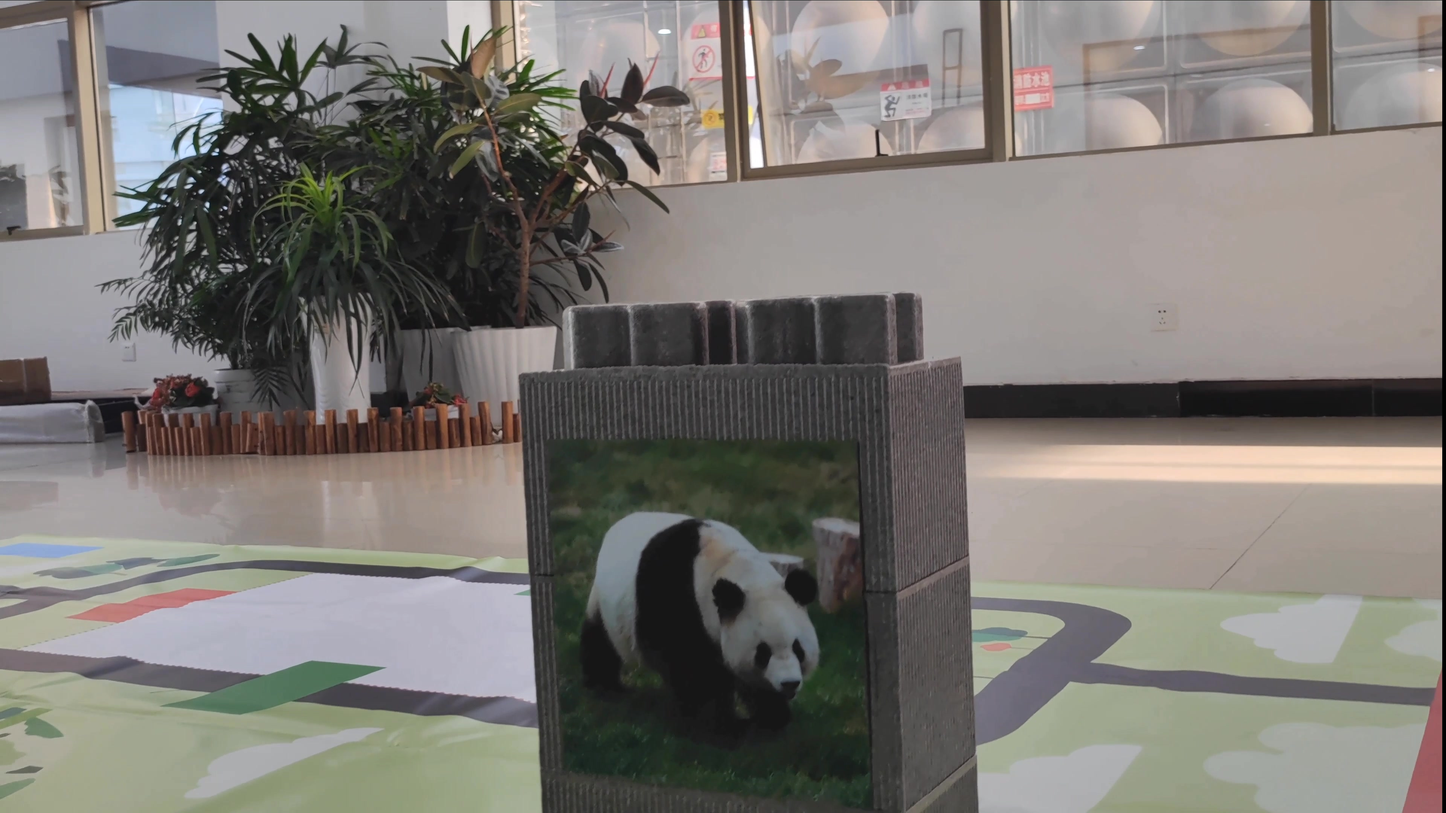panda: (552, 440, 865, 787)
